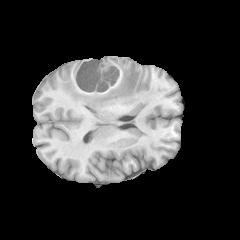glioma: (60, 58, 142, 110)
